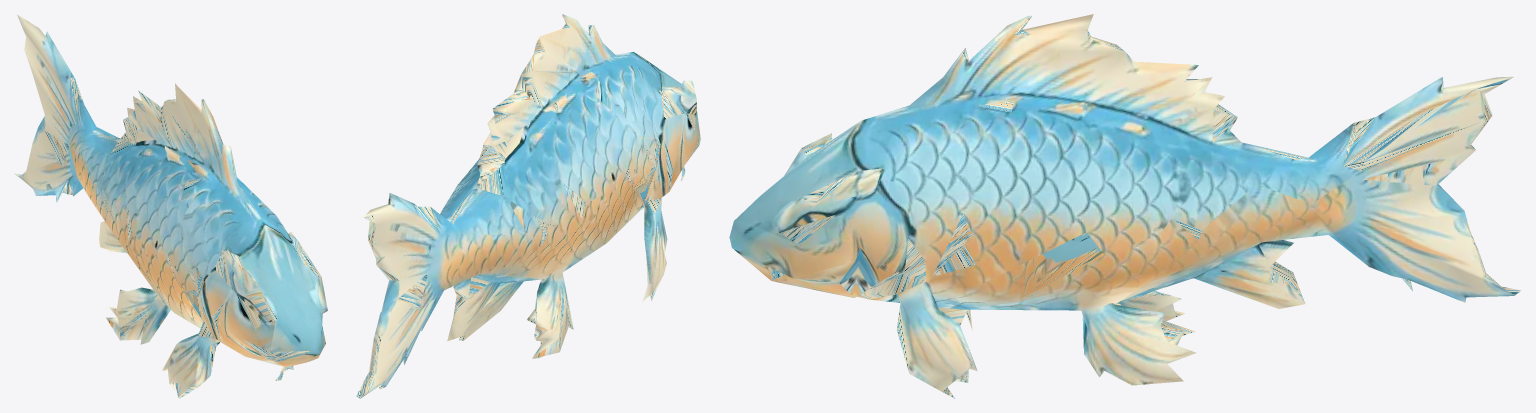
File: sky-spirit.glb
3 views of the same model, side by side, from view 1: azimuth 30°, elevation 25°; view 2: azimuth 150°, elevation 25°; view 3: azimuth 270°, elevation 25° (orthographic). The views are drawn at different scales.
Visible parts, largest first — view 1: sky-spirit; view 2: sky-spirit; view 3: sky-spirit.
Boxes of the visible parts, box(x1,y1,x2,y2) form: sky-spirit: box(14, 14, 327, 398); sky-spirit: box(356, 14, 700, 398); sky-spirit: box(729, 14, 1520, 398).
Bounding box in the file's own units: 0.2293 × 0.4924 × 1.
Materials: 1 (1 with a texture image).
